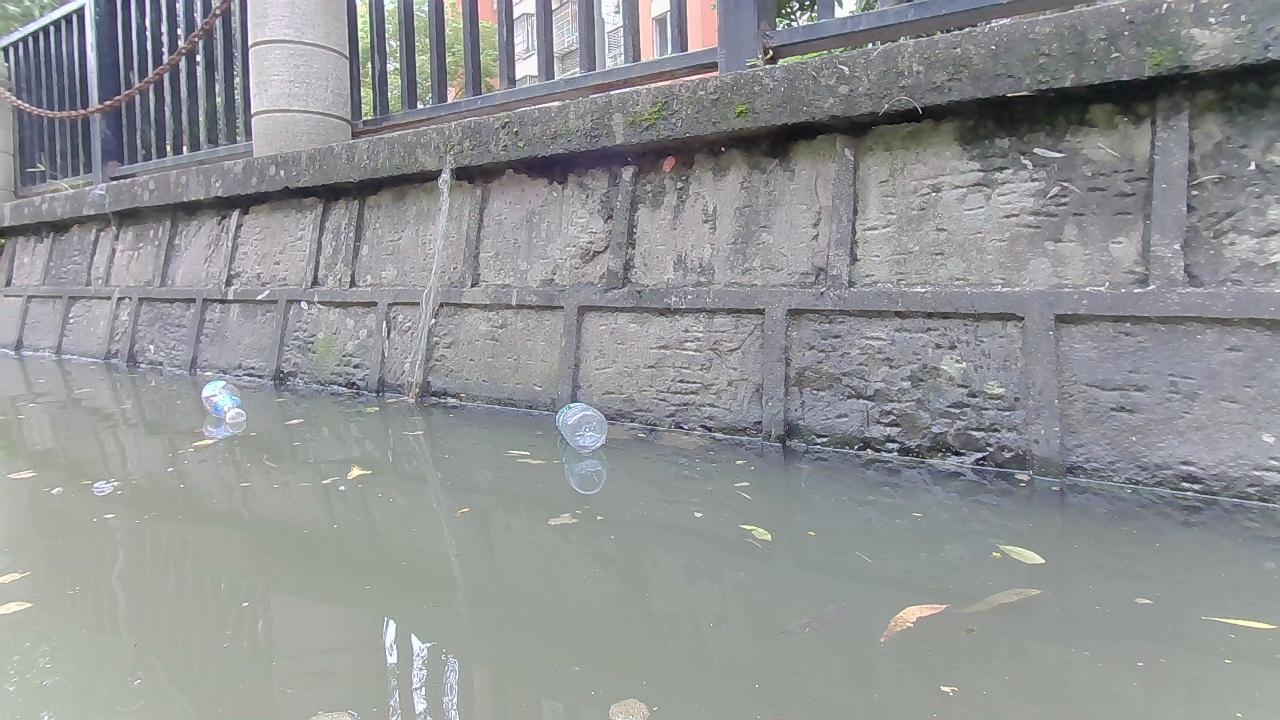bottle: (555, 400, 607, 450), (199, 379, 244, 423)
